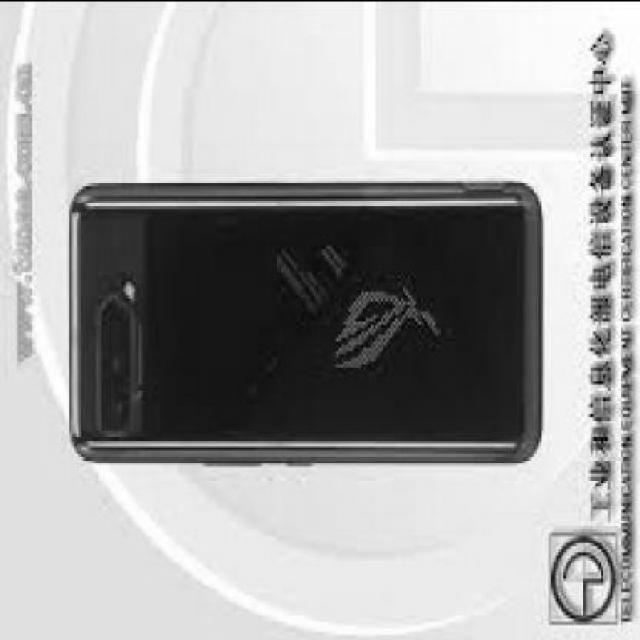fake: (67, 178, 541, 464)
